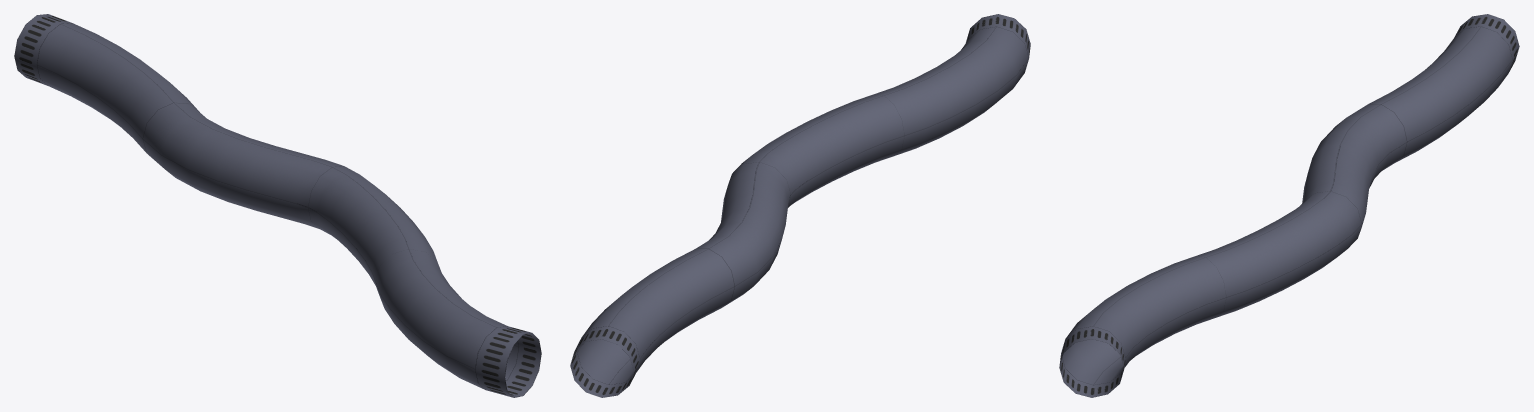
File: Flexible_Hoses_01.FBX
3 views of the same model, side by side, from view 1: azimuth 30°, elevation 25°; view 2: azimuth 150°, elevation 25°; view 3: azimuth 330°, elevation 25° (orthographic). The views are drawn at different scales.
Visible parts, largest first — view 1: Flexible_Hoses_01; view 2: Flexible_Hoses_01; view 3: Flexible_Hoses_01.
Part boxes in pixels (x1,y1,x2,y2): Flexible_Hoses_01: [14, 14, 541, 397]; Flexible_Hoses_01: [570, 14, 1030, 397]; Flexible_Hoses_01: [1059, 14, 1519, 397].
Bounding box in the file's own units: 2.14 × 1.01 × 13.65.
2 materials, 2 textured.
